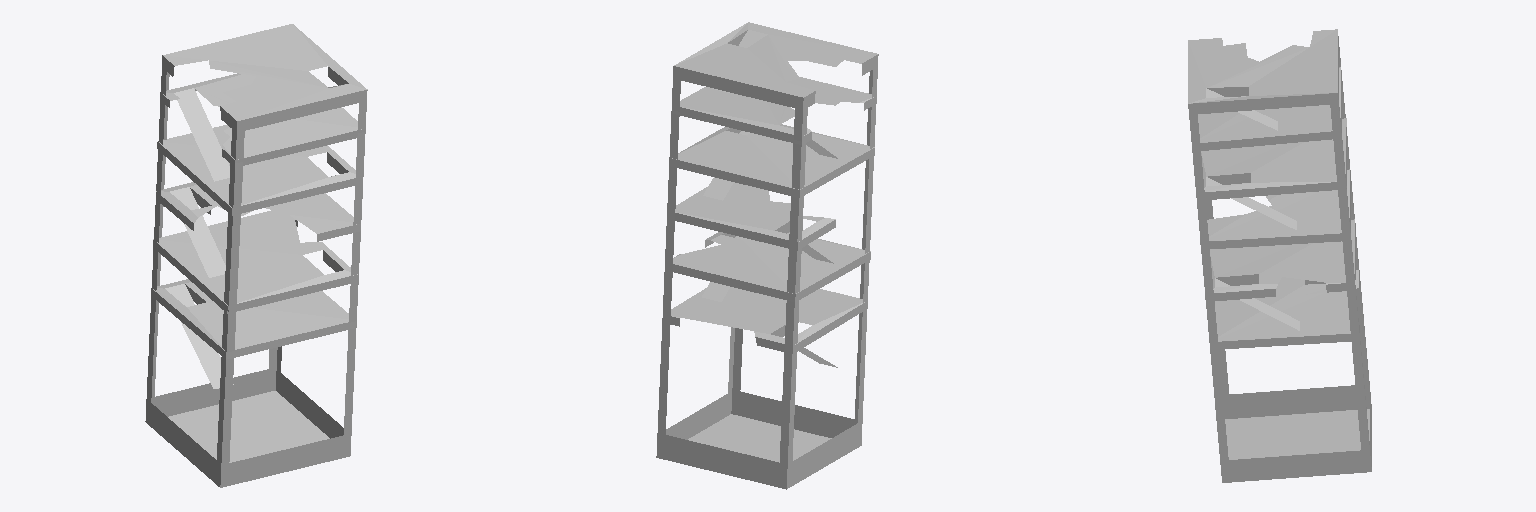
File: tall_building.obj
The picture shows the model from 3 angles: view 1: azimuth 30°, elevation 25°; view 2: azimuth 150°, elevation 25°; view 3: azimuth 270°, elevation 25°; orthographic projection.
Parts seen in each view (by area): view 1: Cube_Cube.001, Cube.002_Cube.003, Cube.001_Cube.002, Cube.005_Cube.006, Cube.004_Cube.005, Cube.003_Cube.004; view 2: Cube_Cube.001, Cube.004_Cube.005, Cube.002_Cube.003, Cube.001_Cube.002, Cube.003_Cube.004, Cube.005_Cube.006; view 3: Cube_Cube.001, Cube.004_Cube.005, Cube.001_Cube.002, Cube.002_Cube.003, Cube.003_Cube.004, Cube.005_Cube.006.
Part boxes in pixels (left/top/right/bottom): Cube_Cube.001: left=145, top=24, right=367, bottom=487; Cube.002_Cube.003: left=153, top=210, right=357, bottom=313; Cube.001_Cube.002: left=151, top=279, right=355, bottom=388; Cube.005_Cube.006: left=160, top=73, right=364, bottom=181; Cube.004_Cube.005: left=157, top=125, right=355, bottom=215; Cube.003_Cube.004: left=156, top=182, right=360, bottom=277; Cube_Cube.001: left=656, top=22, right=878, bottom=489; Cube.004_Cube.005: left=670, top=124, right=874, bottom=200; Cube.002_Cube.003: left=673, top=232, right=870, bottom=301; Cube.001_Cube.002: left=667, top=287, right=867, bottom=367; Cube.003_Cube.004: left=675, top=182, right=835, bottom=263; Cube.005_Cube.006: left=672, top=77, right=876, bottom=158; Cube_Cube.001: left=1188, top=29, right=1371, bottom=482; Cube.004_Cube.005: left=1201, top=118, right=1346, bottom=229; Cube.001_Cube.002: left=1215, top=270, right=1359, bottom=349; Cube.002_Cube.003: left=1205, top=219, right=1355, bottom=330; Cube.003_Cube.004: left=1200, top=169, right=1350, bottom=248; Cube.005_Cube.006: left=1198, top=67, right=1341, bottom=150.
Bounding box in the file's own units: 2.02 × 5.73 × 2.45.